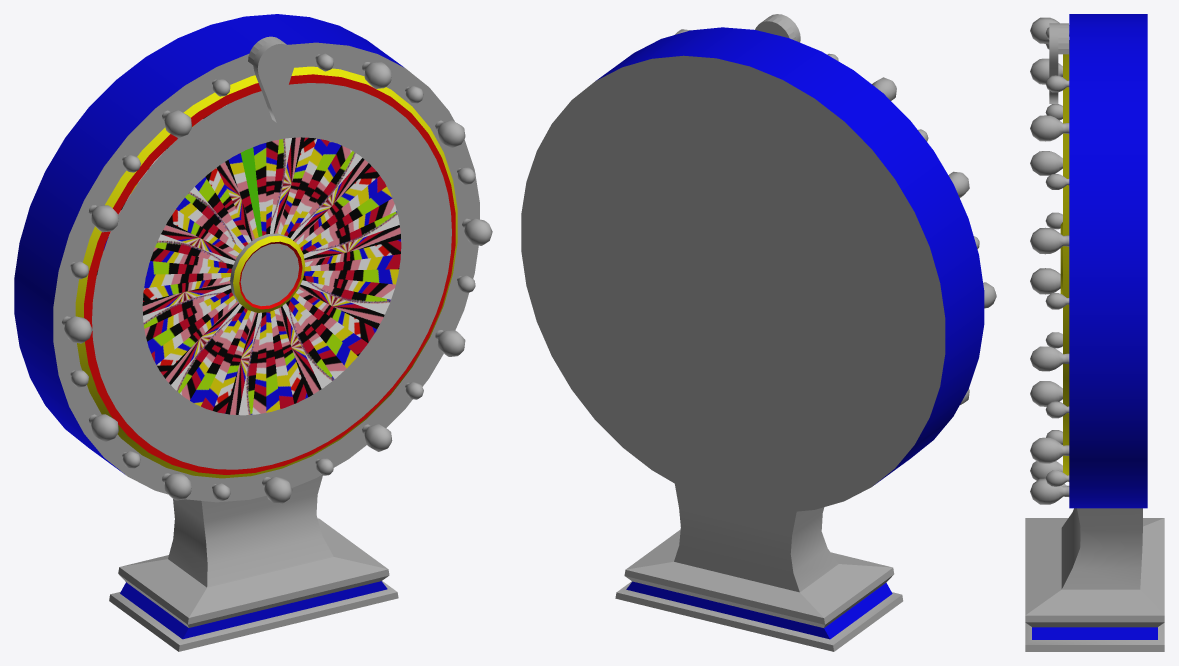
The model's file is SM_WheelPrototype_V2.fbx.
3 renders of one model, left to right at view 1: azimuth 30°, elevation 25°; view 2: azimuth 150°, elevation 25°; view 3: azimuth 270°, elevation 25°, orthographic.
Parts seen in each view (by area): view 1: MainFrame, pCylinder135, Stand, Lights, CenterSphere, Pointer, pPlane55, pPlane32, pPlane31, pPlane24, pPlane48, pPlane62 (+53 smaller); view 2: MainFrame, Stand, Lights, Pointer; view 3: MainFrame, Stand, Lights, Pointer.
Boxes of the visible parts, box(x1,y1,x2,y2) form: MainFrame: box(14, 14, 479, 502); pCylinder135: box(92, 103, 401, 415); Stand: box(109, 475, 398, 651); Lights: box(62, 53, 492, 504); CenterSphere: box(230, 233, 305, 312); Pointer: box(248, 36, 295, 122); pPlane55: box(368, 118, 417, 170); pPlane32: box(234, 414, 258, 469); pPlane31: box(216, 414, 244, 469); pPlane24: box(116, 371, 166, 422); pPlane48: box(400, 232, 451, 258); pPlane62: box(285, 83, 309, 138); MainFrame: box(521, 27, 984, 512); Stand: box(615, 484, 903, 651); Lights: box(675, 29, 996, 404); Pointer: box(755, 14, 800, 42); MainFrame: box(1063, 14, 1147, 508); Stand: box(1025, 508, 1164, 651); Lights: box(1030, 17, 1069, 504); Pointer: box(1049, 23, 1068, 103).
Size of the model in its own units: 172 by 221 by 48.73.
